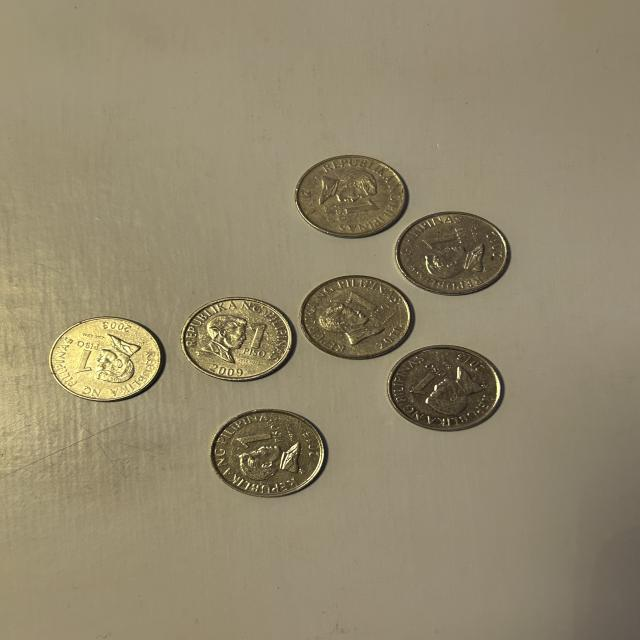1_Old_Front: (340, 285, 396, 324), (403, 362, 450, 400), (68, 338, 109, 380), (236, 422, 290, 452), (235, 324, 275, 361), (422, 228, 473, 255), (334, 198, 386, 222)
